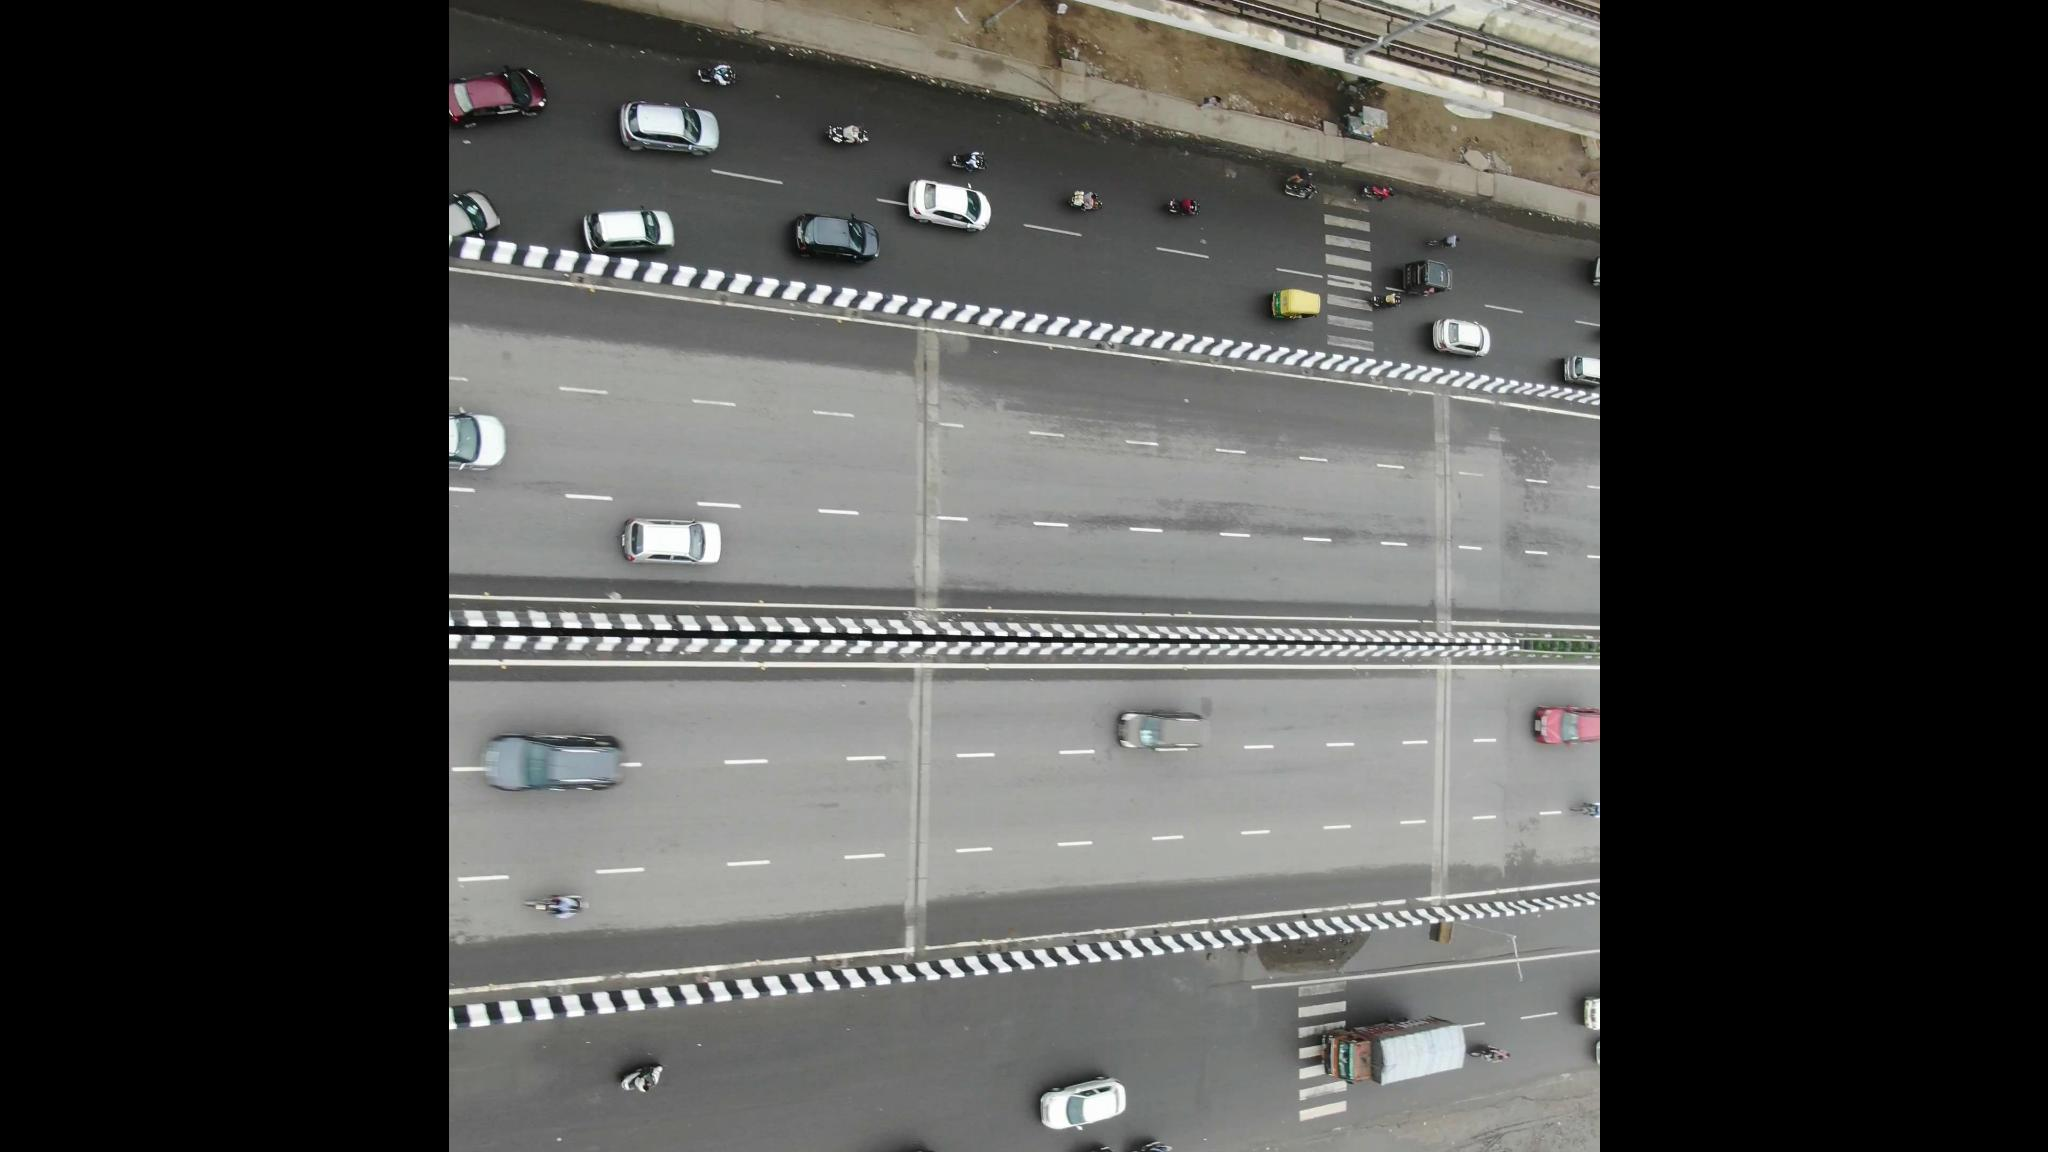Ravelling: (1087, 482, 1363, 556), (1499, 505, 1573, 575)
